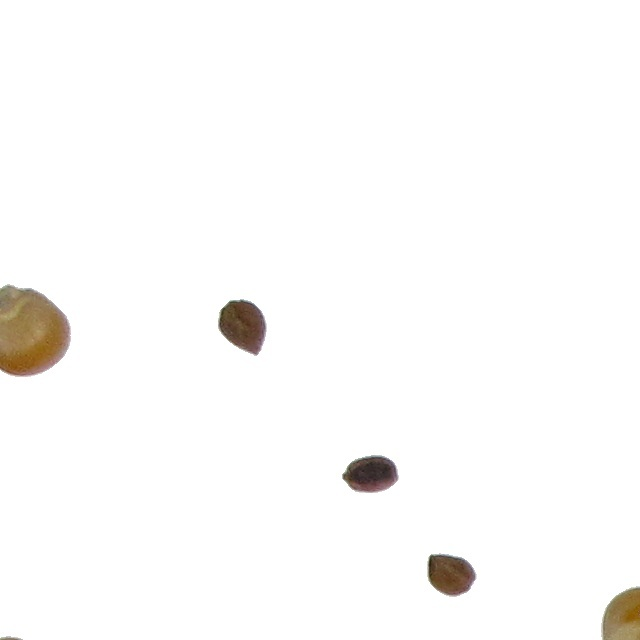buckwheat: (217, 298, 268, 357), (426, 552, 478, 598), (341, 454, 400, 494)
mais: (599, 585, 640, 640)
